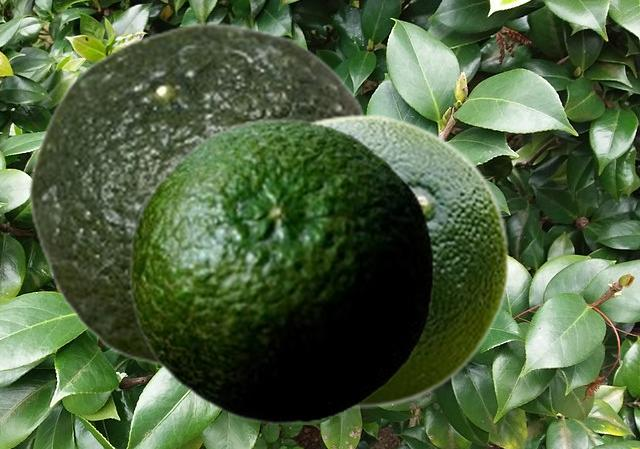calamansi: (28, 22, 368, 371), (128, 117, 433, 424), (306, 113, 510, 407)
